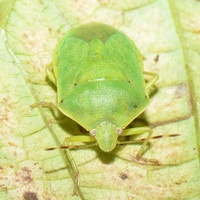insect: (36, 22, 158, 199), (69, 146, 112, 180)
